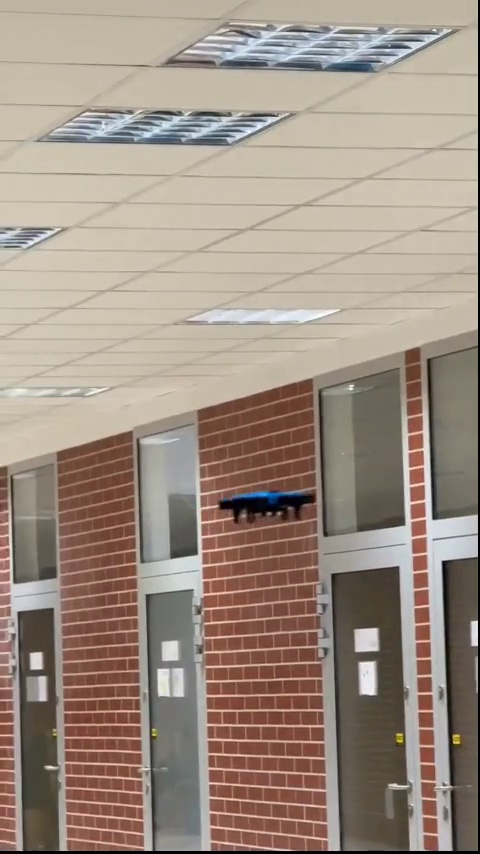drone: (219, 487, 310, 525)
